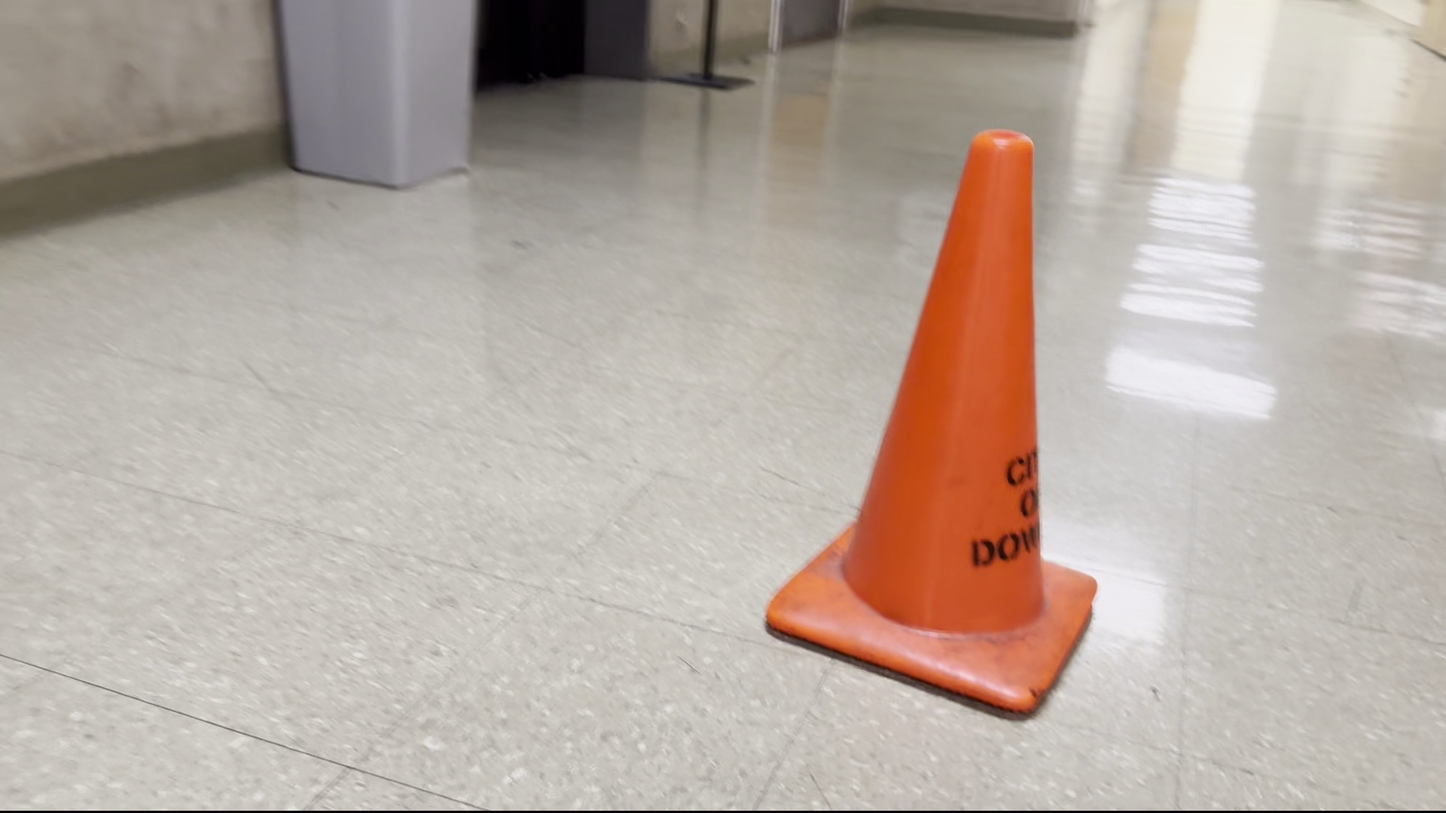traffic_cone: (764, 127, 1098, 716)
